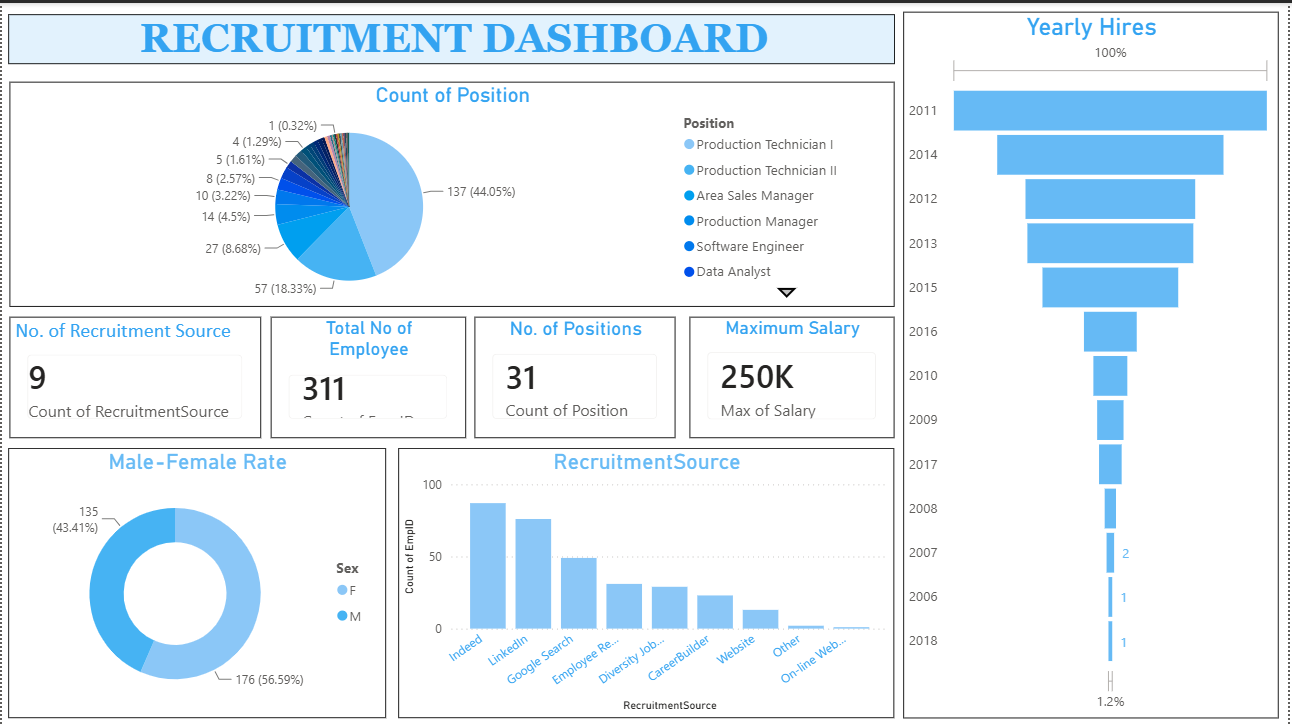

Layout of this report page (visuals, bound fields, positions):
{"tool":"powerbi","page":{"name":"Page 1","canvas":[1280,720],"ordinal":0},"visuals":[{"type":"cardVisual","title":"Total No of Employee","fields":{"Data":["CountNonNull(HRDataset_v14.EmpID)"]},"box":[267.5,312.3,194.1,120.7],"z":0},{"type":"cardVisual","title":"No. of Recruitment Source","fields":{"Data":["Count(HRDataset_v14.RecruitmentSource)"]},"box":[7.5,312.3,250.1,120.7],"z":1000},{"type":"cardVisual","title":"No. of Positions","fields":{"Data":["Count(HRDataset_v14.Position)"]},"box":[470.3,312.3,200.3,120.7],"z":2000},{"type":"cardVisual","title":"Maximum Salary","fields":{"Data":["Max(HRDataset_v14.Salary)"]},"box":[684.3,312.3,204,120.7],"z":3000},{"type":"pieChart","title":"Count of Position","fields":{"Category":["HRDataset_v14.Position"],"Y":["CountNonNull(HRDataset_v14.Position)"]},"box":[7.5,78.4,880.9,224],"z":4000},{"type":"donutChart","title":"Male-Female Rate","fields":{"Category":["HRDataset_v14.Sex"],"Y":["CountNonNull(HRDataset_v14.GenderID)"]},"box":[6.2,442.9,375.7,268.7],"z":5000},{"type":"funnel","title":"Yearly Hires","fields":{"Y":["CountNonNull(HRDataset_v14.EmpID)"],"Category":["HRDataset_v14.DateofHire.Variation.Date Hierarchy.Year","HRDataset_v14.DateofHire.Variation.Date Hierarchy.Quarter","HRDataset_v14.DateofHire.Variation.Date Hierarchy.Month","HRDataset_v14.DateofHire.Variation.Date Hierarchy.Day"]},"box":[897,8.7,373.3,703],"z":6000},{"type":"columnChart","title":"RecruitmentSource","fields":{"Category":["HRDataset_v14.RecruitmentSource"],"Y":["CountNonNull(HRDataset_v14.EmpID)"]},"box":[394.4,442.9,493.9,268.7],"z":7000},{"type":"textbox","title":"RECRUITMENT DASHBOARD","box":[6.2,11.2,882.1,49.8],"z":7001}]}

Visuals, with their boxes in screenshot pixels (x1, y1, x2, y2), scaled from the page's 1280x720 canvas onto the 1292x726 screenshot:
"Total No of Employee" cardVisual: {"left": 270, "top": 315, "right": 466, "bottom": 437}
"No. of Recruitment Source" cardVisual: {"left": 8, "top": 315, "right": 260, "bottom": 437}
"No. of Positions" cardVisual: {"left": 475, "top": 315, "right": 677, "bottom": 437}
"Maximum Salary" cardVisual: {"left": 691, "top": 315, "right": 897, "bottom": 437}
"Count of Position" pieChart: {"left": 8, "top": 79, "right": 897, "bottom": 305}
"Male-Female Rate" donutChart: {"left": 6, "top": 447, "right": 385, "bottom": 718}
"Yearly Hires" funnel: {"left": 905, "top": 9, "right": 1282, "bottom": 718}
"RecruitmentSource" columnChart: {"left": 398, "top": 447, "right": 897, "bottom": 718}
"RECRUITMENT DASHBOARD" textbox: {"left": 6, "top": 11, "right": 897, "bottom": 62}
